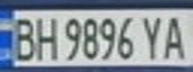6: (115, 12, 142, 61)
8: (78, 14, 100, 61)
9: (96, 14, 121, 61), (60, 14, 84, 61)
A: (160, 11, 190, 61)
B: (6, 14, 39, 62)
H: (30, 12, 60, 62)
Y: (139, 11, 169, 61)
